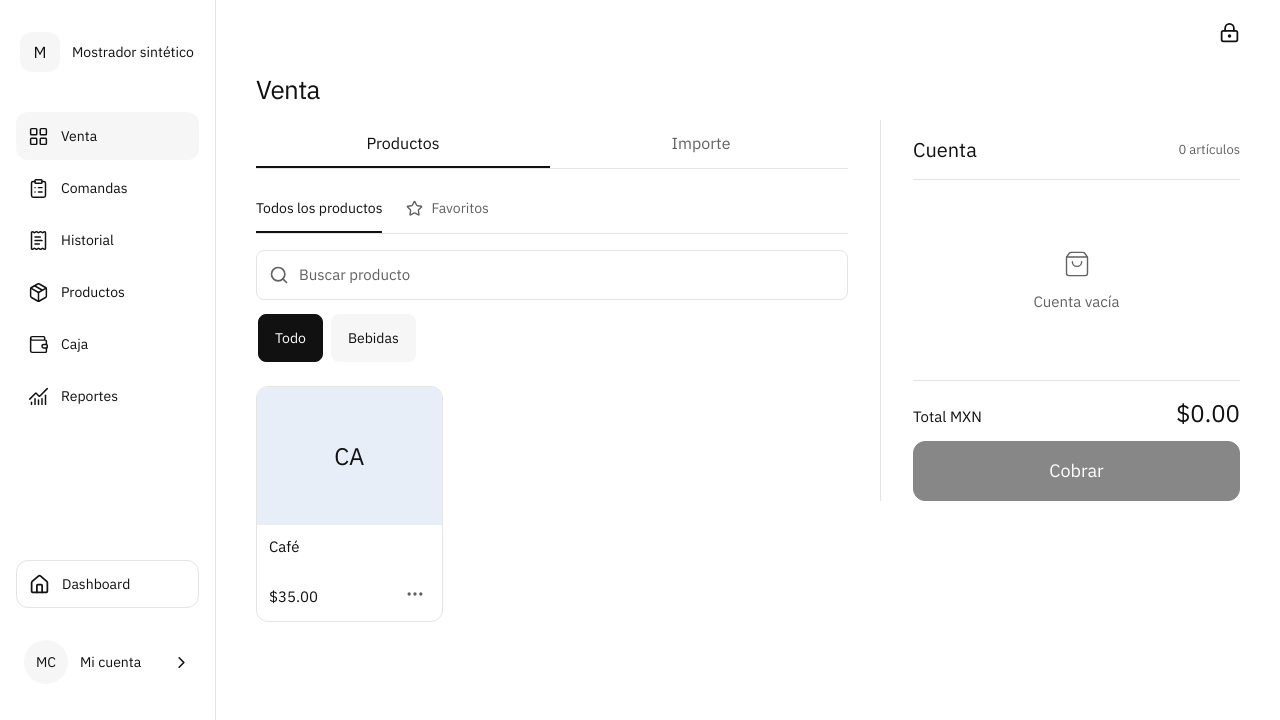
Test case: opening checkout shows payment methods immediately and has no manual edit, kitchen or finalization steps
Click the button with aria-label "Agregar Café, $35.00" at (349, 504), box [256,386,443,622]
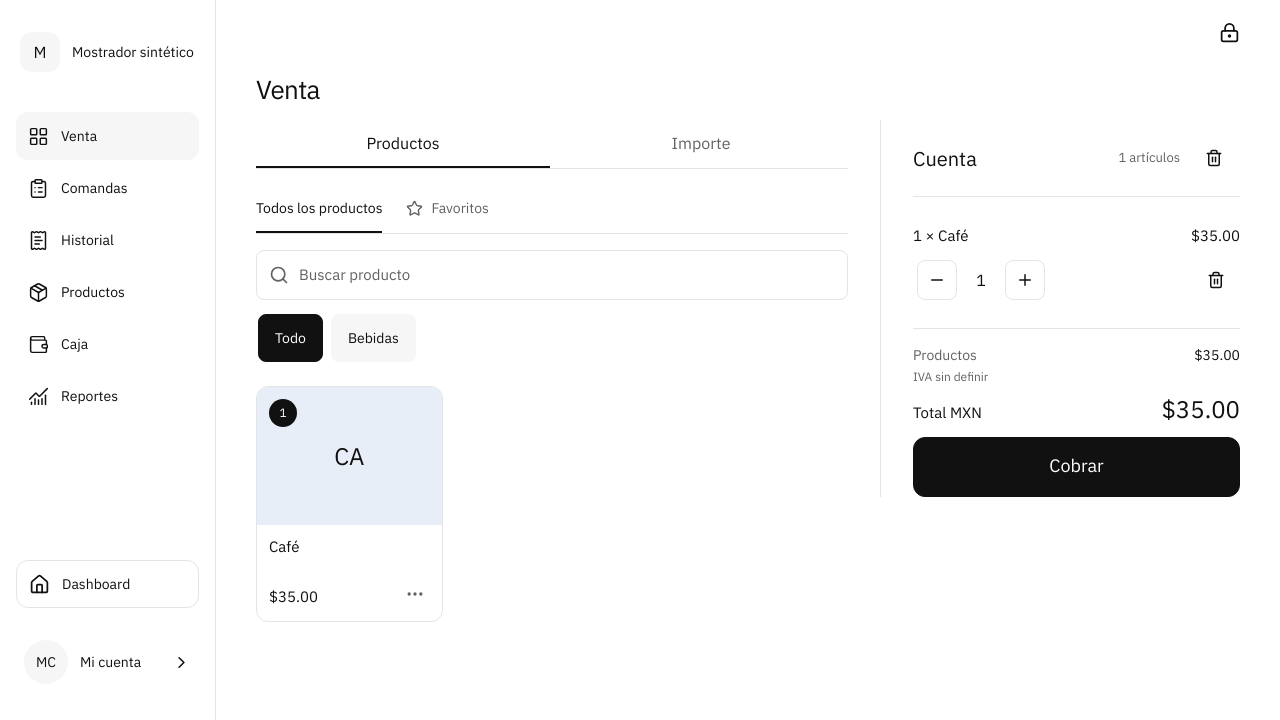
Click the button "Cobrar" at (1076, 466), box [913,436,1240,496]
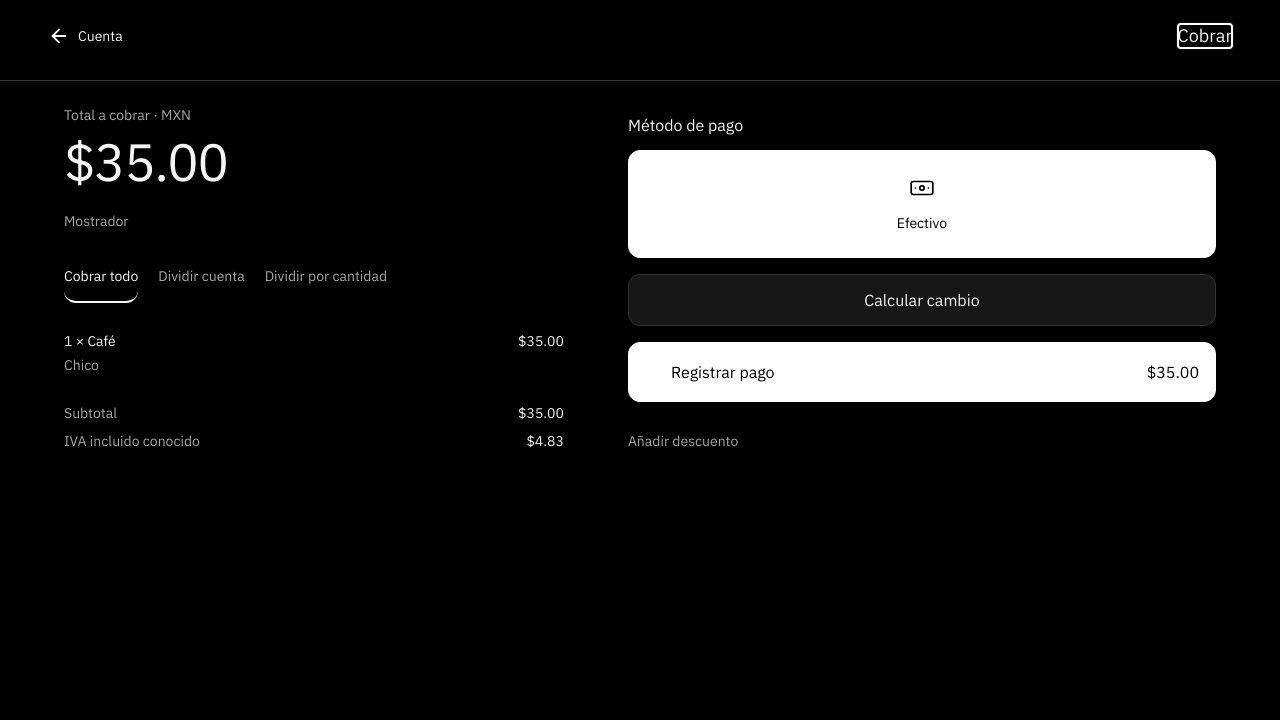
Check: the radio button labelled "Efectivo" is checked, box [628,150,1216,258]
